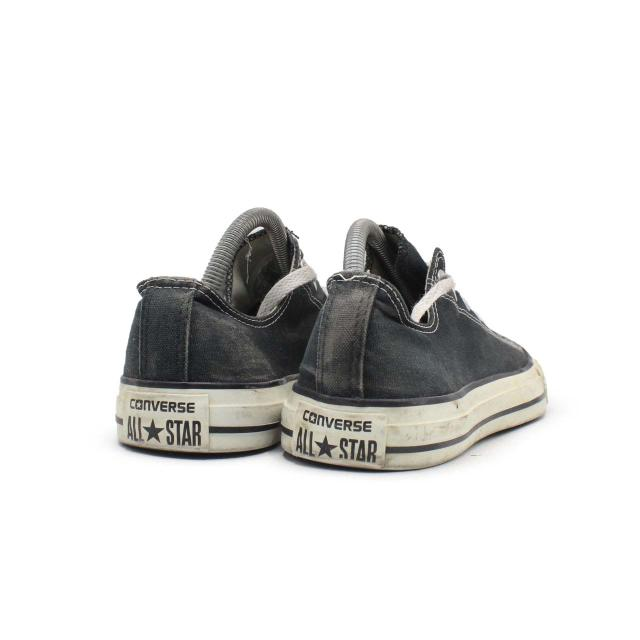heel: (300, 275, 457, 404), (119, 279, 295, 388)
midsole: (274, 360, 548, 469), (113, 378, 292, 455)
